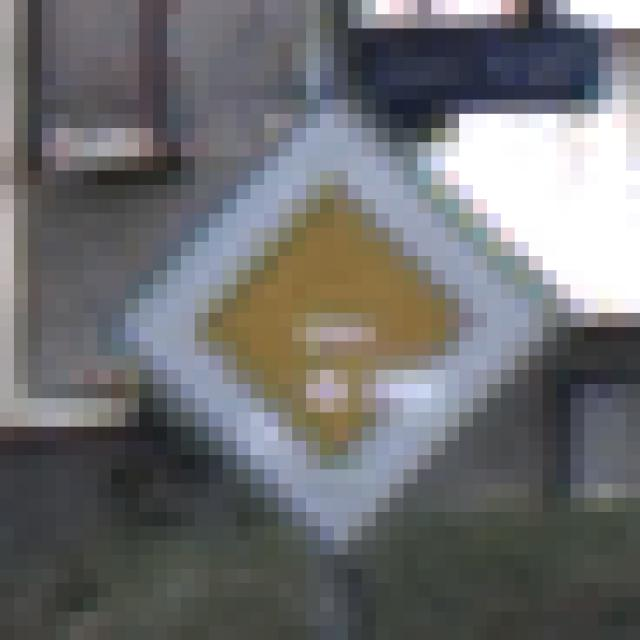Main Road: (85, 72, 572, 570)
